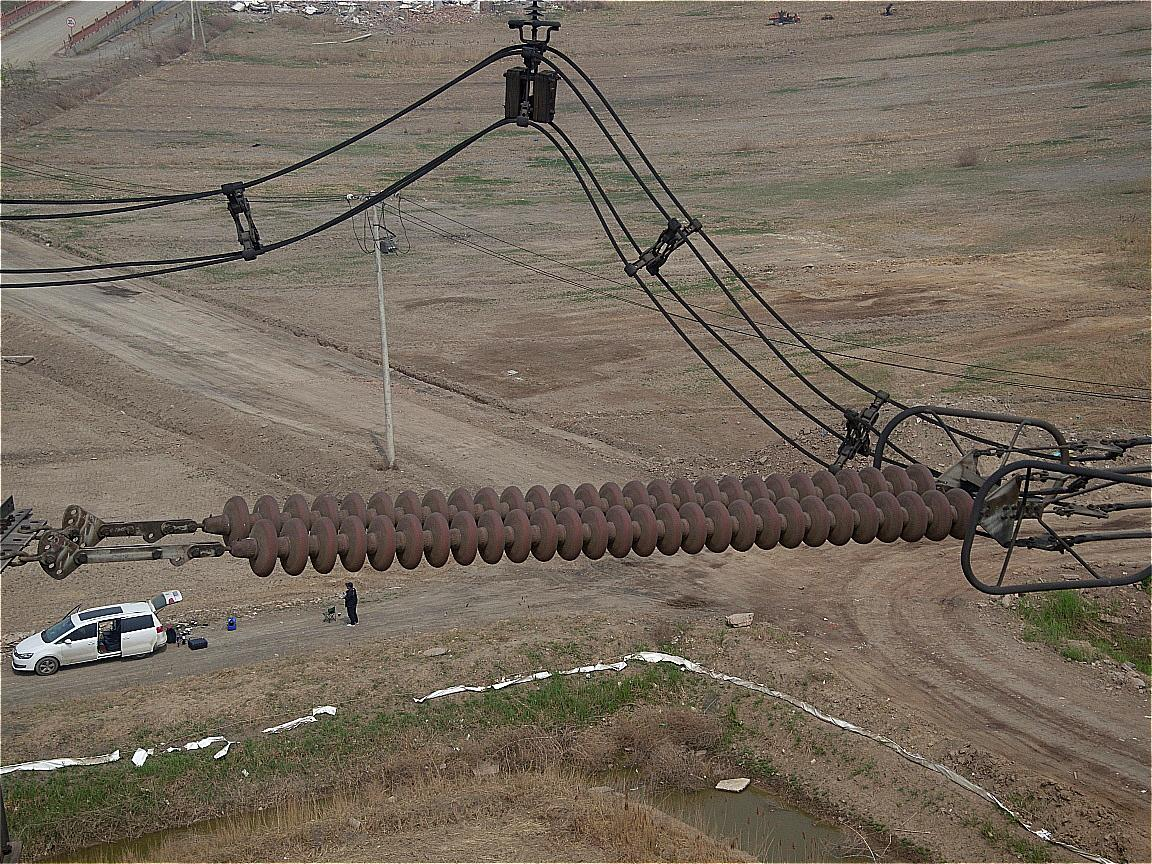insultor1: (221, 461, 978, 577)
